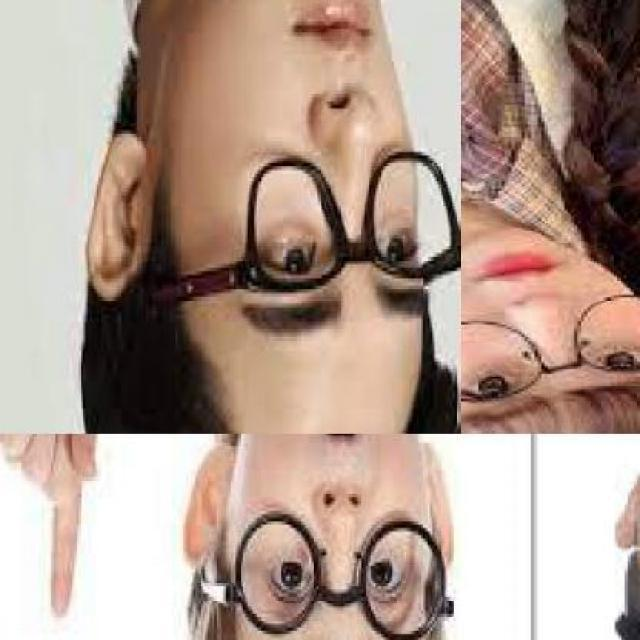glasses: (163, 144, 459, 326), (192, 512, 457, 638), (460, 275, 638, 417)
